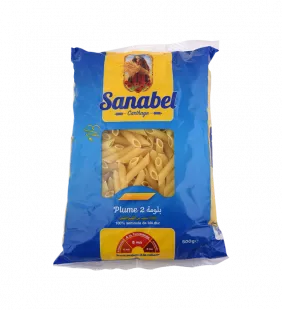SANABEL CARTHAGE: (44, 29, 236, 277)
